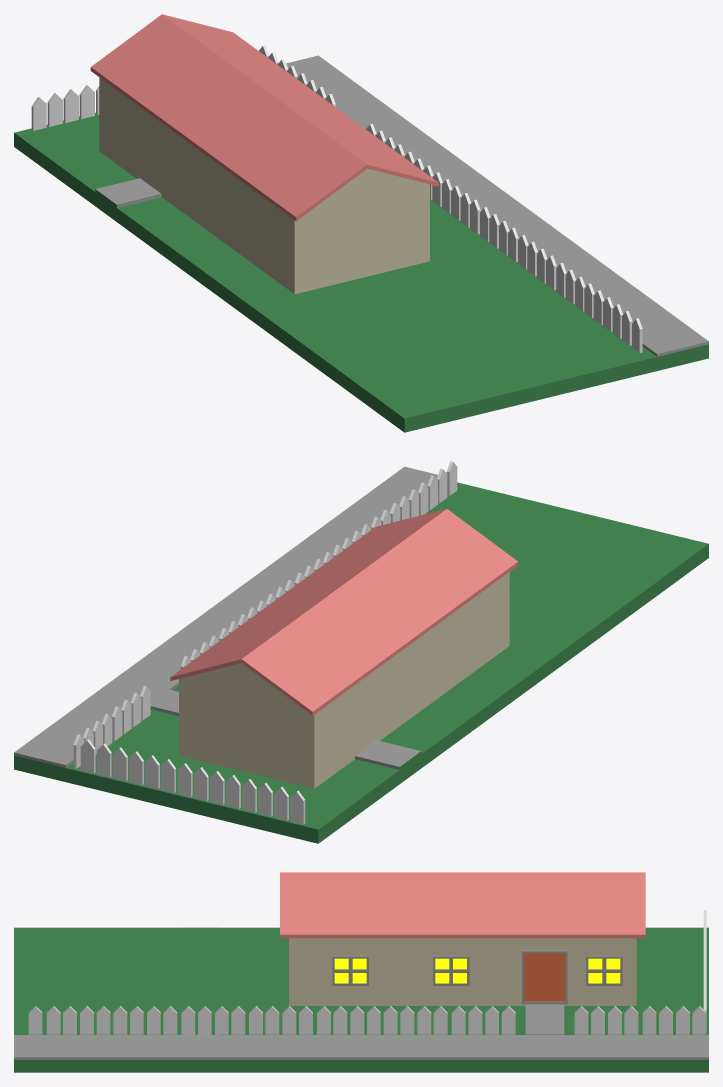
Rendered from village_house.fbx.
3 renders of one model, top to bottom at view 1: azimuth 30°, elevation 25°; view 2: azimuth 150°, elevation 25°; view 3: azimuth 270°, elevation 25°, orthographic. The views are drawn at different scales.
Visible parts, largest first — view 1: Cube.013, Cube.014, Cube.015; view 2: Cube.013, Cube.014, Cube.015; view 3: Cube.013, Cube.014, Cube.015.
Boxes of the visible parts, left/top/right/bottom form: Cube.013: left=14, top=55, right=708, bottom=432; Cube.014: left=90, top=14, right=438, bottom=294; Cube.015: left=31, top=45, right=642, bottom=352; Cube.013: left=14, top=466, right=708, bottom=843; Cube.014: left=170, top=509, right=518, bottom=788; Cube.015: left=73, top=461, right=457, bottom=824; Cube.013: left=14, top=927, right=708, bottom=1072; Cube.014: left=280, top=872, right=645, bottom=1005; Cube.015: left=28, top=910, right=706, bottom=1034.
Size of the model in its own units: 4500 by 1854 by 10000.
